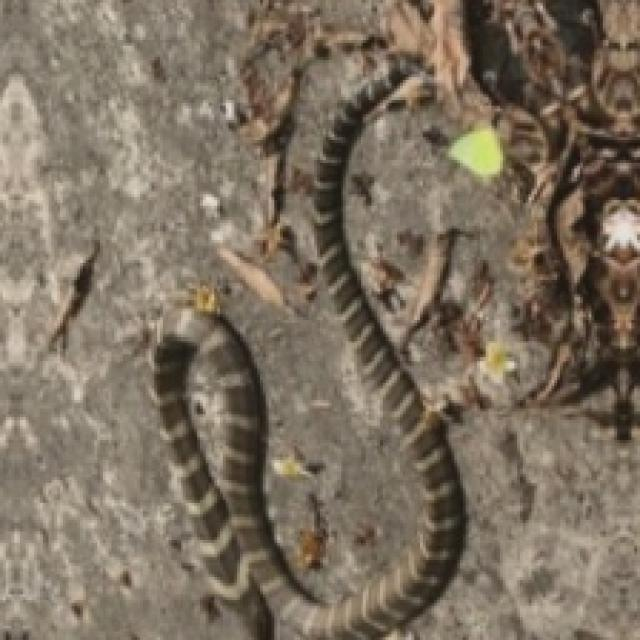king cobra: (154, 69, 463, 637)
